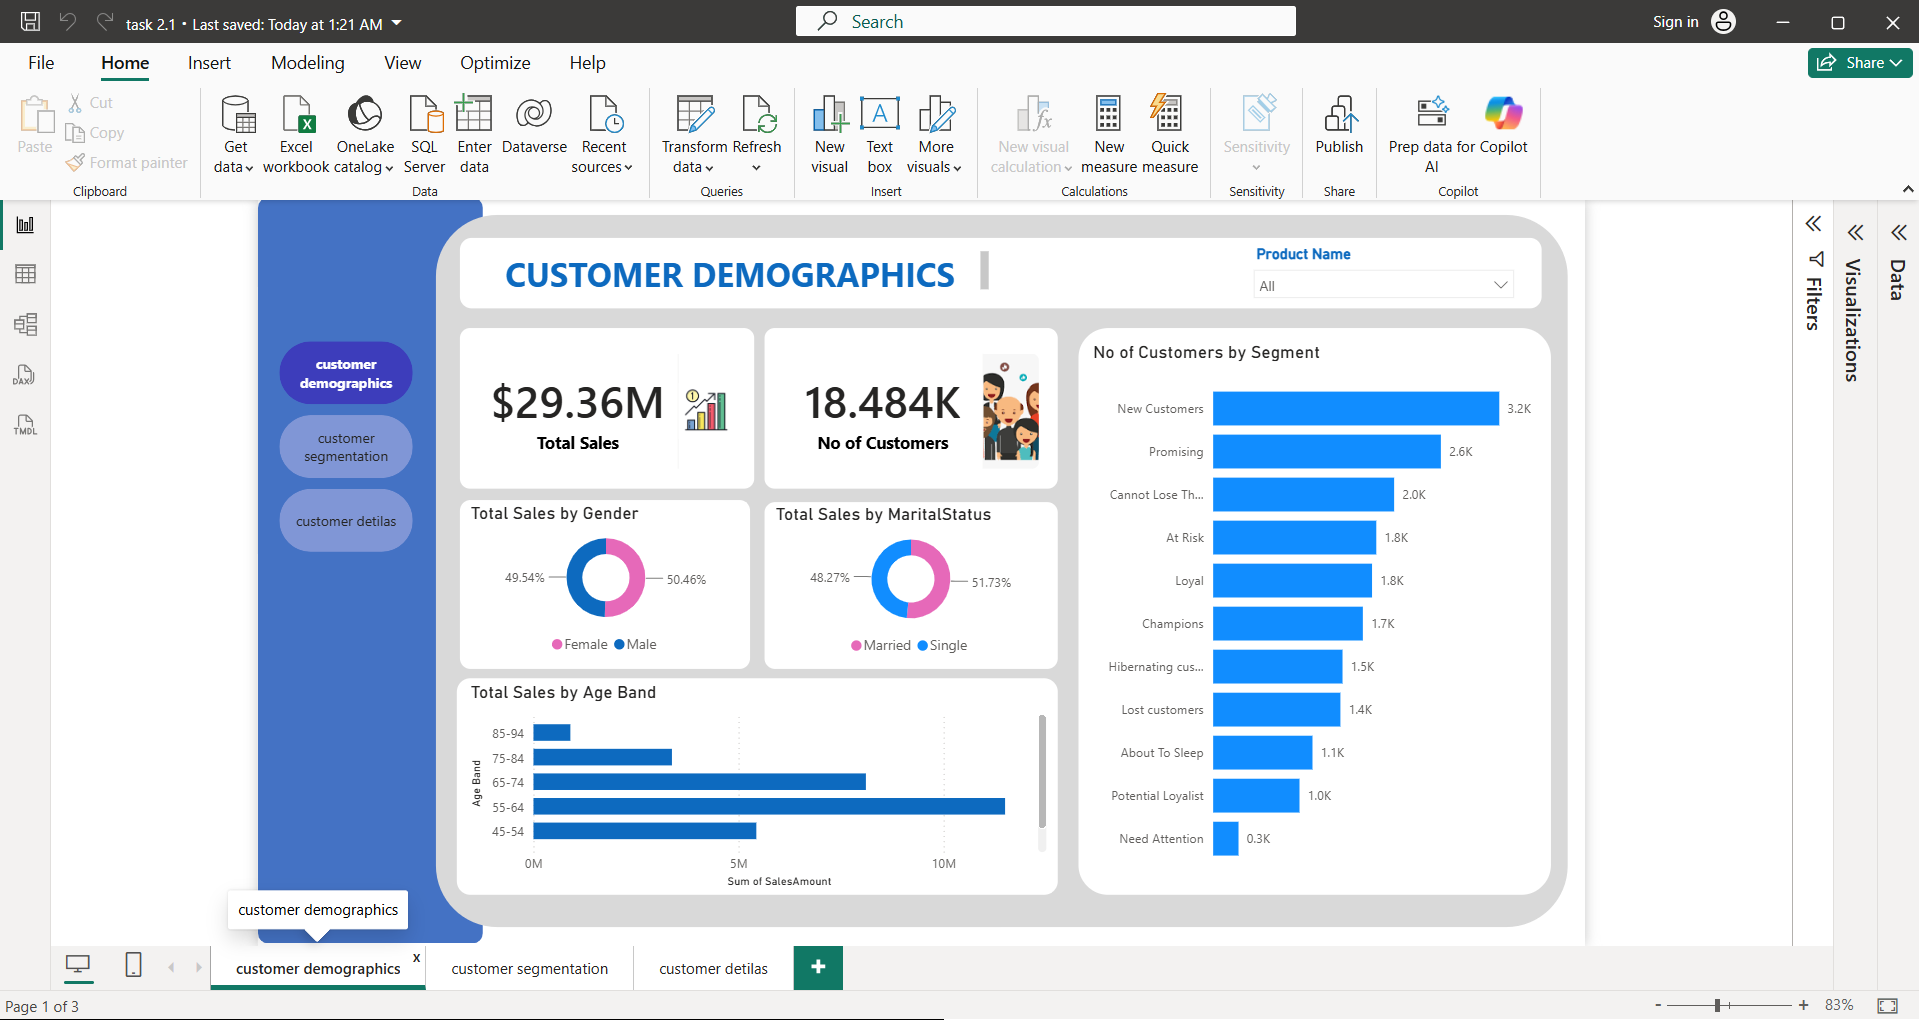

What the dashboard file says about the page in this screenshot:
{"tool":"powerbi","page":{"name":"customer demographics","canvas":[1280,720],"ordinal":0},"visuals":[{"type":"cardVisual","fields":{"Data":["Sum(FactInternetSales.SalesAmount)"]},"box":[200.3,136.3,271.4,135.1],"z":0},{"type":"cardVisual","fields":{"Data":["Count(FactInternetSales.CustomerKey)"]},"box":[494.6,136.3,271.4,135.1],"z":1000},{"type":"donutChart","fields":{"Y":["Sum(FactInternetSales.SalesAmount)"],"Category":["DimCustomer.Gender"]},"box":[200.3,292,271.4,155.6],"z":2000},{"type":"donutChart","fields":{"Y":["Sum(FactInternetSales.SalesAmount)"],"Category":["DimCustomer.MaritalStatus"]},"box":[494.6,293.2,271.4,155.6],"z":3000},{"type":"barChart","title":"Total Sales  by Age Band","fields":{"Y":["Sum(FactInternetSales.SalesAmount)"],"Category":["Age Sort.Age Band"]},"box":[200.3,464.5,565.8,203.9],"z":4000},{"type":"textbox","box":[234,44.6,476.5,49.5],"z":5000},{"type":"slicer","fields":{"Values":["DimProduct.Product Name"]},"box":[950.7,38.6,271.4,60.3],"z":6000},{"type":"barChart","title":"No of Customers by Segment","fields":{"Y":["Count(FactInternetSales.CustomerKey)"],"Category":["Segment Table.Segment"]},"box":[801.1,136.3,433.1,518.8],"z":7000},{"type":"pageNavigator","box":[20.5,136.3,129.1,203.9],"z":8000}]}

Visuals, with their boxes on the page's 1280x720 design canvas (x1, y1, x2, y2). These are canvas units, not pixel positions in the 1919x1020 screenshot, which may show the page scaled, cropped or inside an application window:
cardVisual - Sum(FactInternetSales.SalesAmount): select_region(200, 136, 472, 271)
cardVisual - Count(FactInternetSales.CustomerKey): select_region(495, 136, 766, 271)
donutChart - Sum(FactInternetSales.SalesAmount) x DimCustomer.Gender: select_region(200, 292, 472, 448)
donutChart - Sum(FactInternetSales.SalesAmount) x DimCustomer.MaritalStatus: select_region(495, 293, 766, 449)
"Total Sales  by Age Band" barChart: select_region(200, 464, 766, 668)
textbox: select_region(234, 45, 710, 94)
slicer - DimProduct.Product Name: select_region(951, 39, 1222, 99)
"No of Customers by Segment" barChart: select_region(801, 136, 1234, 655)
pageNavigator: select_region(20, 136, 150, 340)
